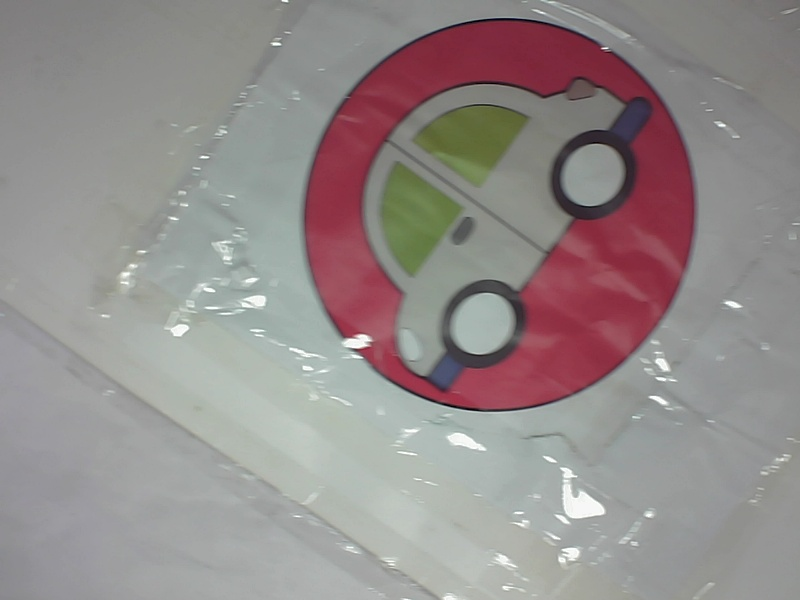areaC: (292, 18, 713, 417)
